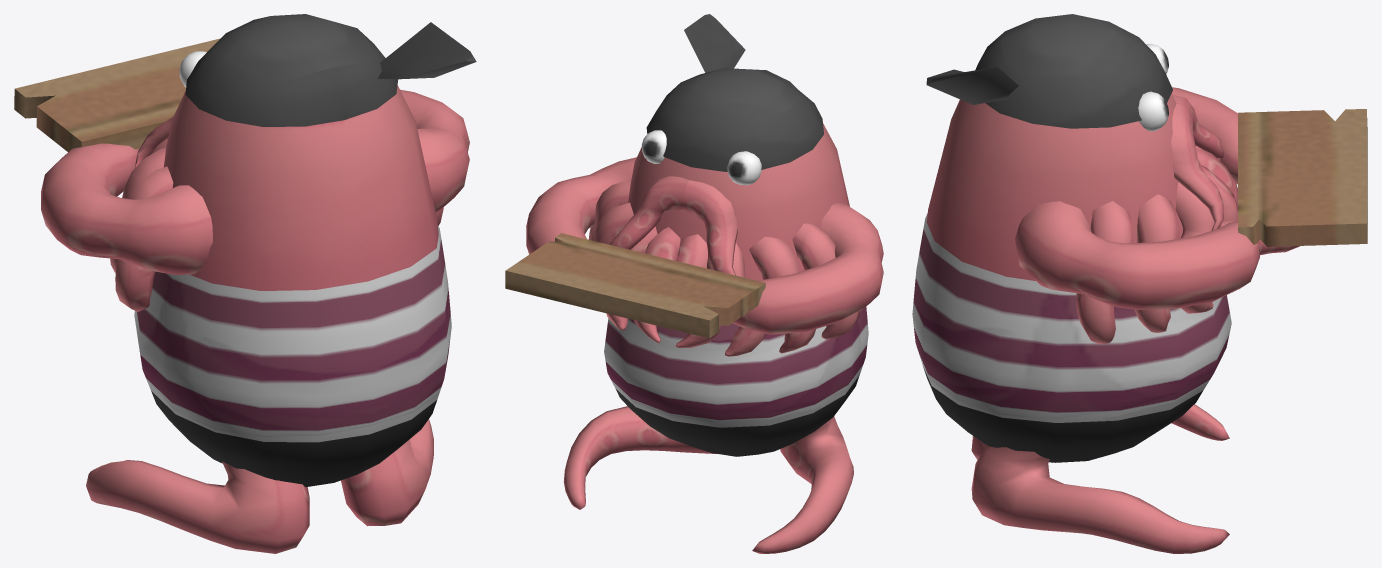
File: tako_idle_c_08.fbx
The picture shows the model from 3 angles, left to right: view 1: azimuth 30°, elevation 25°; view 2: azimuth 150°, elevation 25°; view 3: azimuth 270°, elevation 25°; orthographic projection. The views are drawn at different scales.
Visible parts, largest first — view 1: I_c_08; view 2: I_c_08; view 3: I_c_08.
Boxes of the visible parts, box(x1,y1,x2,y2) form: I_c_08: box(14, 14, 476, 553); I_c_08: box(505, 14, 883, 553); I_c_08: box(912, 14, 1367, 553).
Bounding box in the file's own units: 1.38 × 1.62 × 1.41.
Materials: 1 (1 with a texture image).
